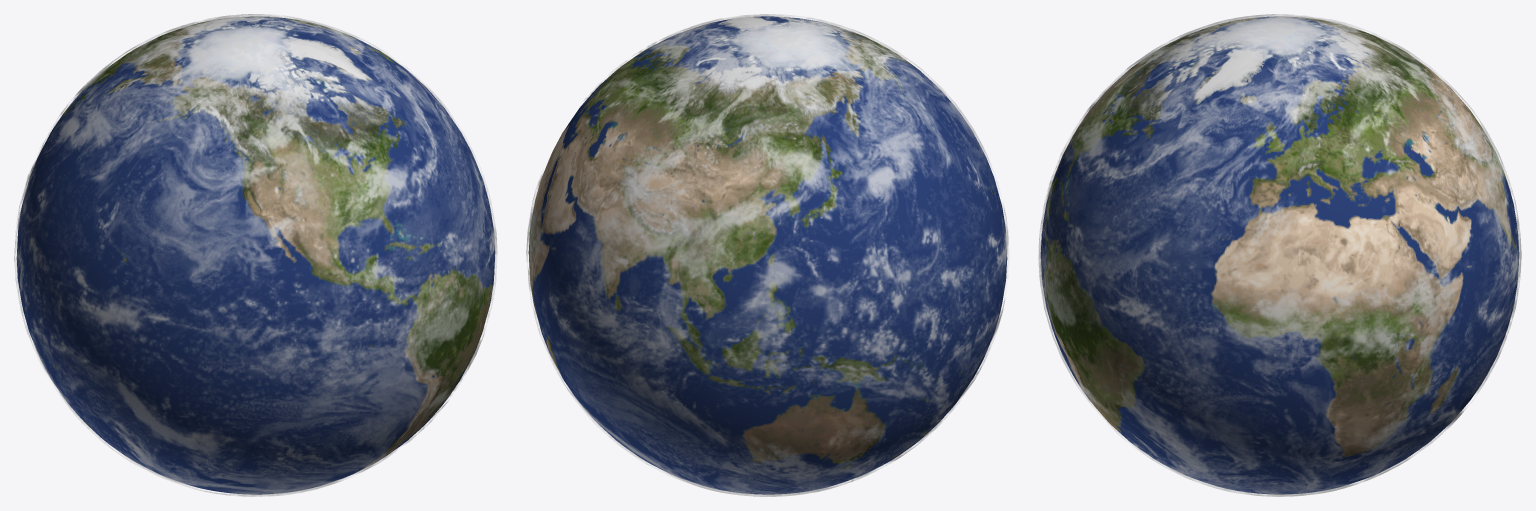
File: earth.glb
The picture shows the model from 3 angles, left to right: view 1: azimuth 30°, elevation 25°; view 2: azimuth 150°, elevation 25°; view 3: azimuth 270°, elevation 25°; orthographic projection.
Parts seen in each view (by area): view 1: earth, clouds; view 2: earth, clouds; view 3: earth, clouds.
Part boxes in pixels (<box>): earth: <box>16,16,495,494</box>; clouds: <box>14,14,497,496</box>; earth: <box>528,16,1007,494</box>; clouds: <box>526,14,1008,496</box>; earth: <box>1040,16,1519,494</box>; clouds: <box>1038,14,1521,496</box>.
Size of the model in its own units: 2.02 by 2.02 by 2.02.
Materials: 2 (2 with a texture image).
